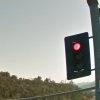Traffic light: (53, 28, 92, 84)
